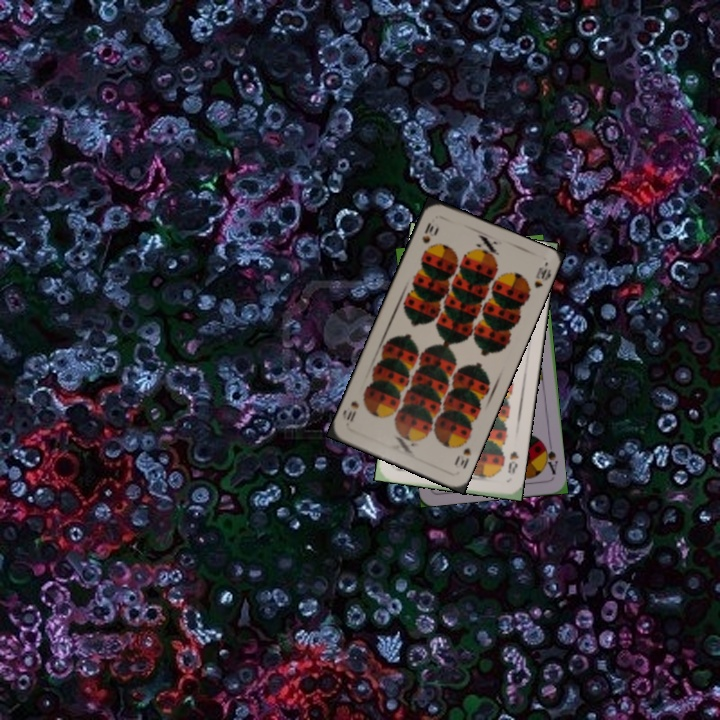S10: (450, 434, 474, 471), (418, 218, 441, 246)
S8: (504, 447, 521, 477)
SA: (539, 438, 560, 477)
